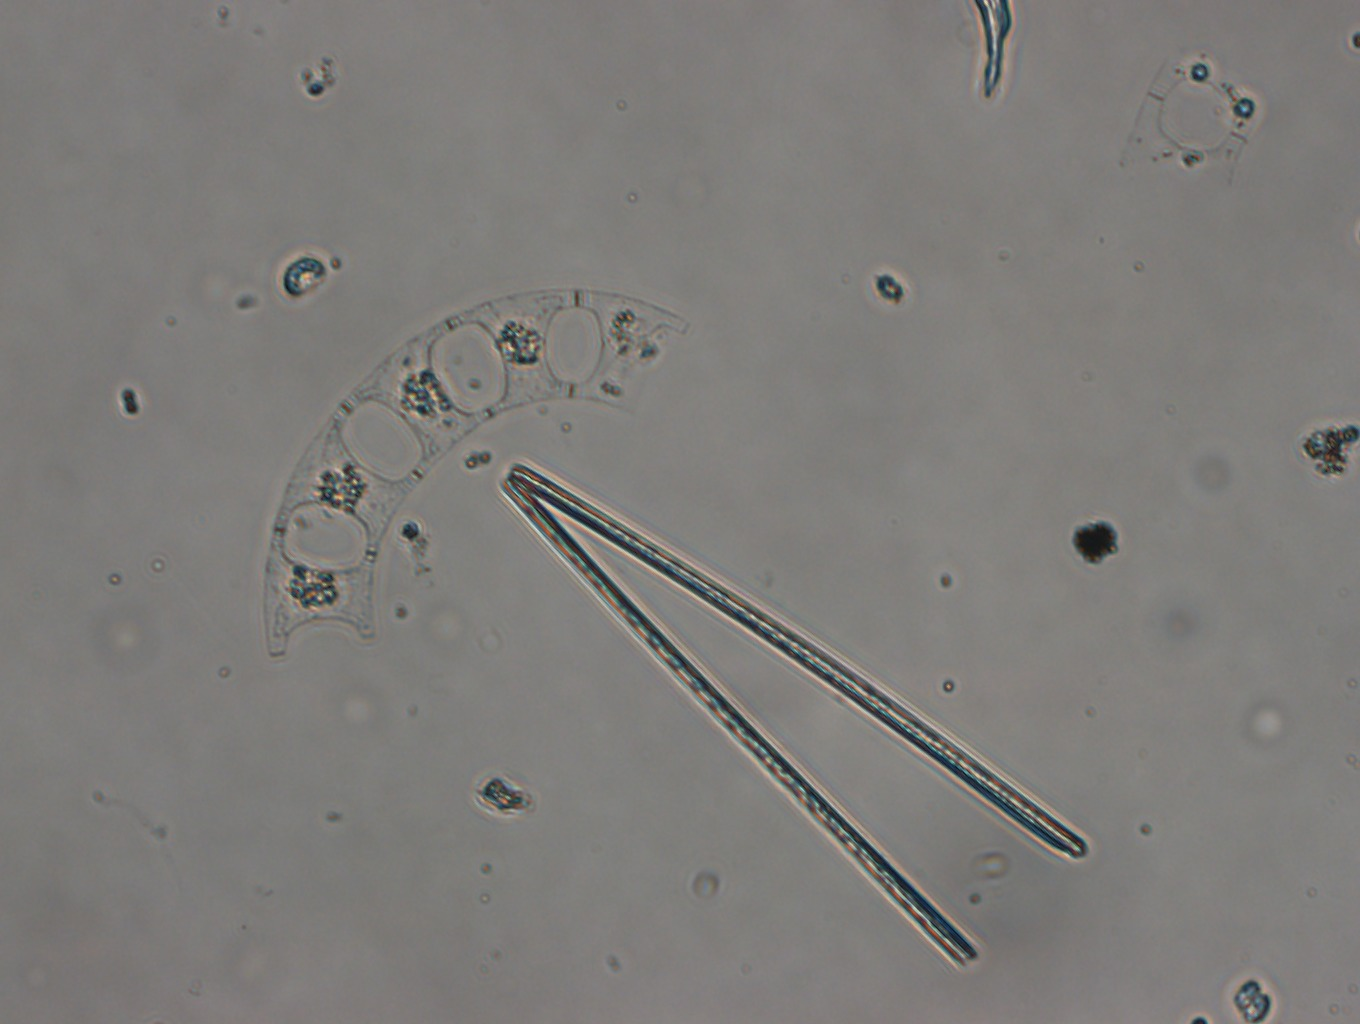eucampia: (248, 293, 695, 662)
thalassionema frauenfeldii: (490, 441, 1091, 972)
